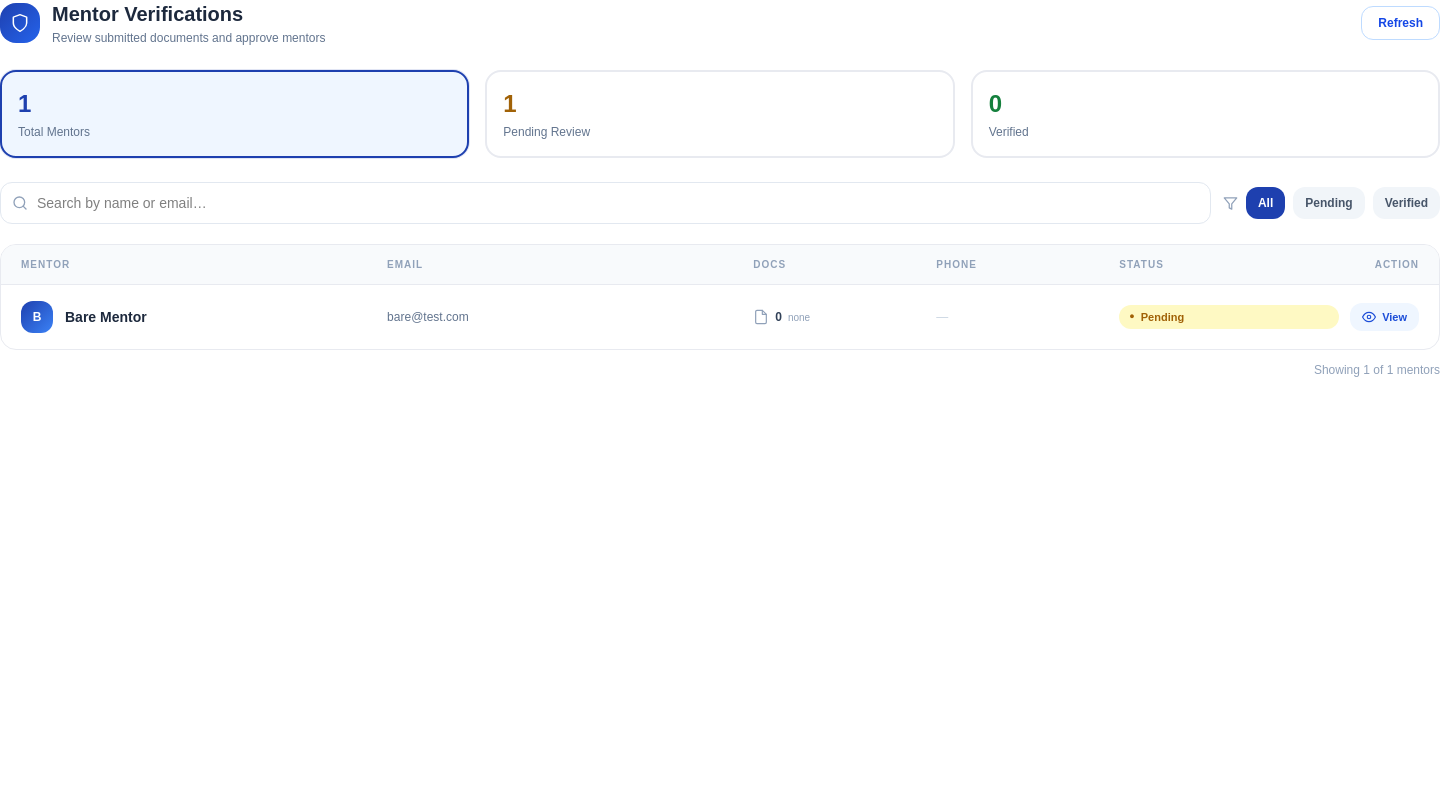
AdminVerifications › DetailDrawer › shows 'Not specified' fallbacks and defaults when fields are missing
Click the button "View" at (1385, 317), box [1350,303,1419,331]
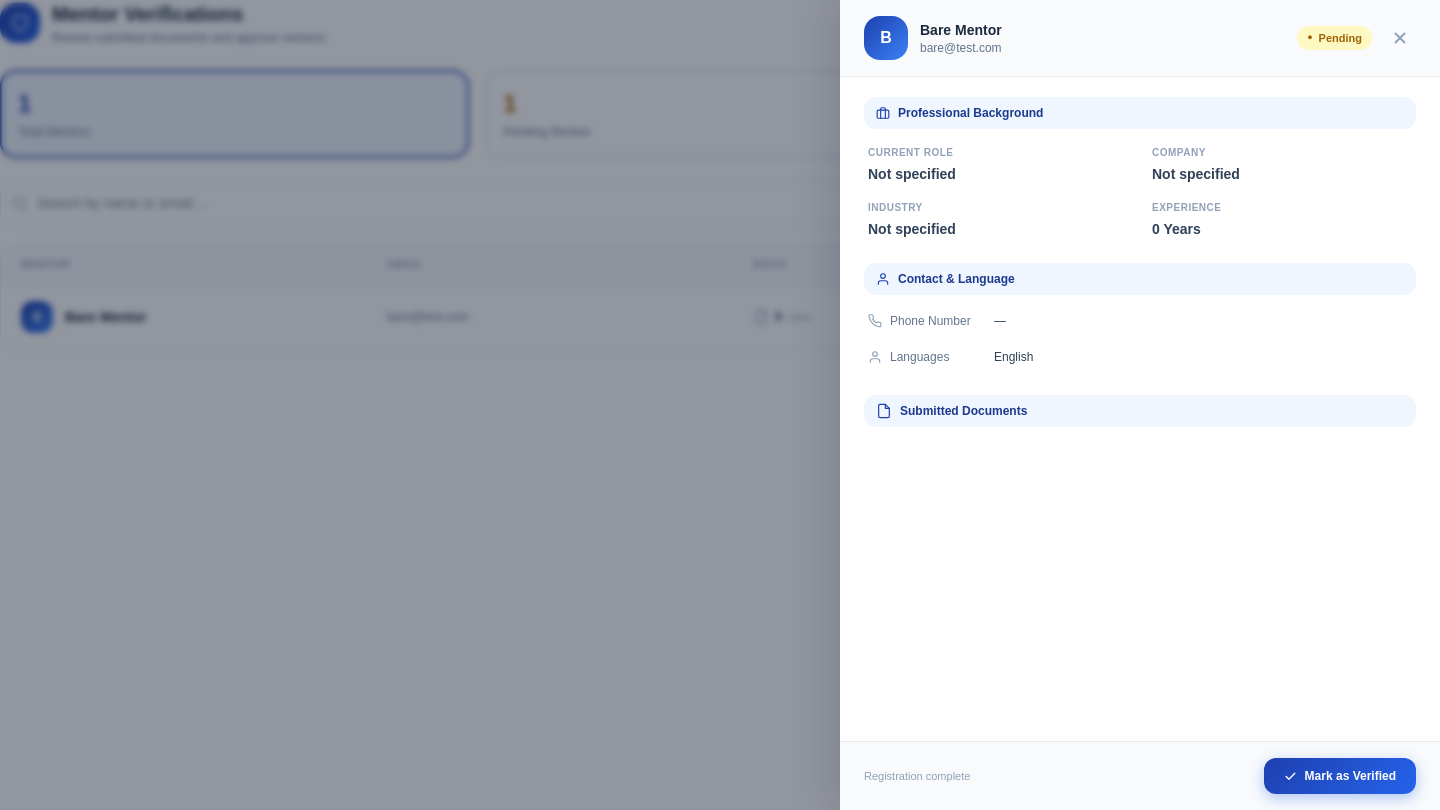
Expected: the text "Not specified" is shown 3 times, [868,166,956,182]; [1152,166,1240,182]; [868,221,956,237]
Expected: the text "0 Years" is shown, [1152,221,1201,237]
Expected: the text "English" is shown, [994,349,1033,365]
